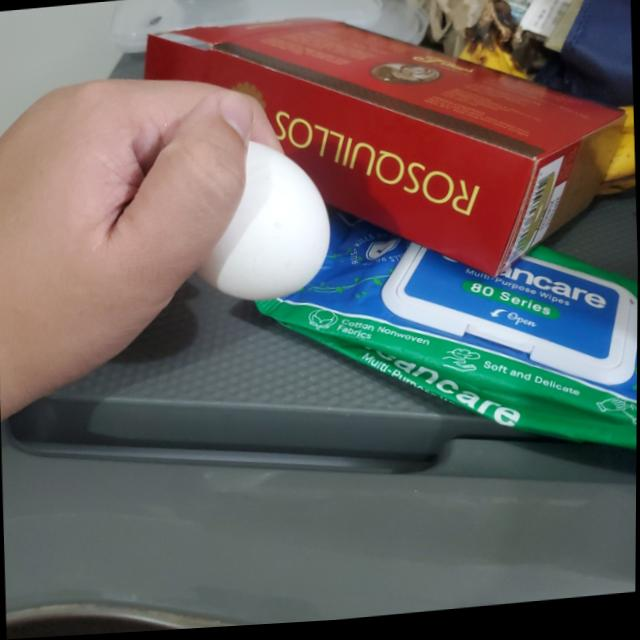egg: (189, 135, 332, 308)
